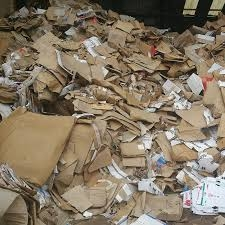paper: (1, 99, 75, 192), (60, 181, 119, 216), (137, 185, 188, 223), (182, 175, 225, 219), (53, 48, 99, 85), (115, 137, 154, 170), (170, 105, 218, 131), (116, 98, 164, 123), (122, 50, 161, 77), (85, 143, 117, 175), (167, 138, 202, 164), (152, 41, 188, 66), (135, 172, 166, 195), (182, 70, 207, 98)
